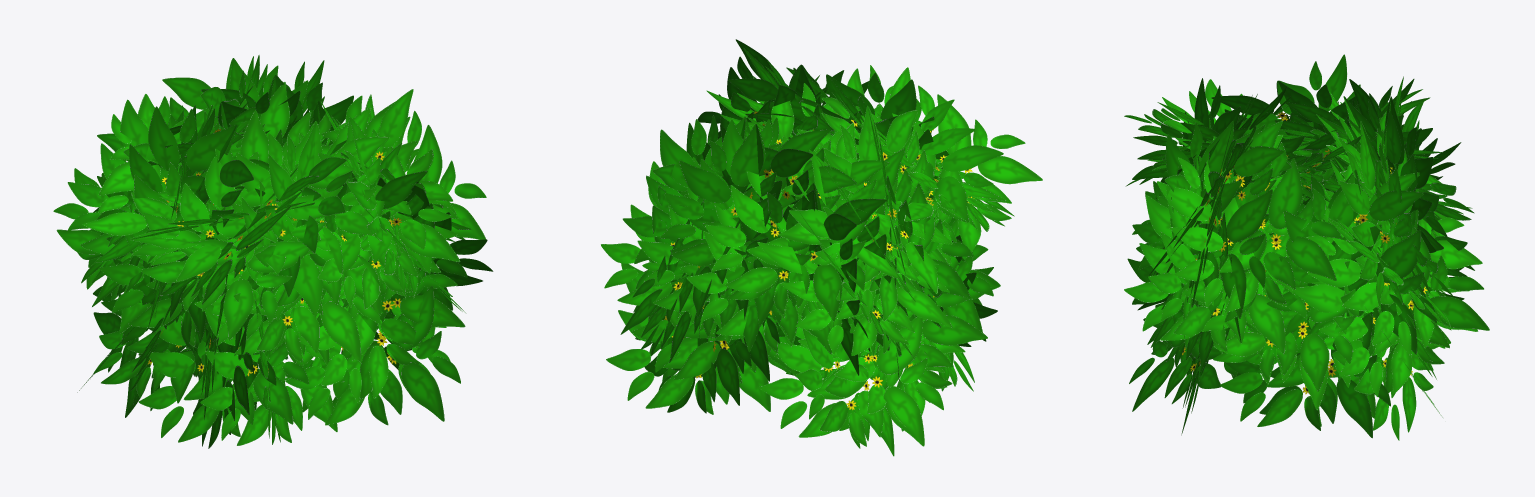
File: BushBlender.fbx
3 views of the same model, side by side, from view 1: azimuth 30°, elevation 25°; view 2: azimuth 150°, elevation 25°; view 3: azimuth 270°, elevation 25° (orthographic). The views are drawn at different scales.
Visible parts, largest first — view 1: Bush_LOD0; view 2: Bush_LOD0; view 3: Bush_LOD0.
Boxes of the visible parts, x1=… form: Bush_LOD0: x1=53, y1=55, x2=493, y2=448; Bush_LOD0: x1=601, y1=39, x2=1042, y2=456; Bush_LOD0: x1=1124, y1=54, x2=1489, y2=440.
Size of what is drawn, in the model's own units: 1.7 by 1.63 by 1.65.
